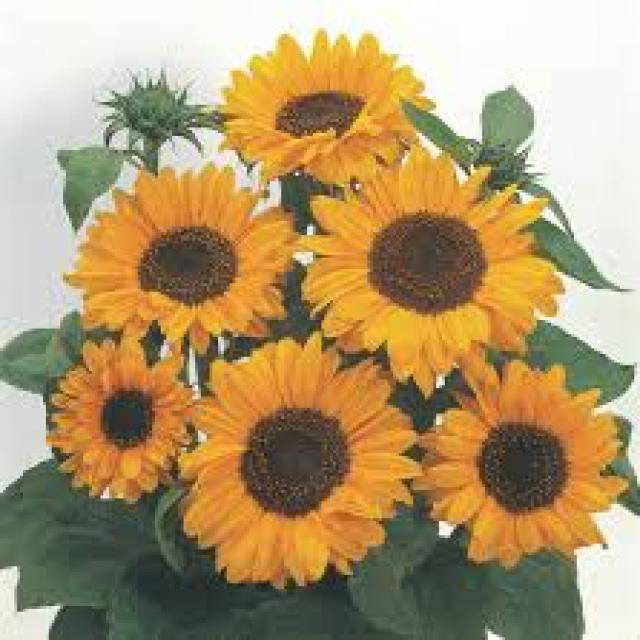sunflower: (285, 131, 576, 405), (169, 324, 432, 598), (54, 147, 326, 361), (409, 350, 639, 576), (206, 18, 447, 194), (36, 324, 212, 513)
